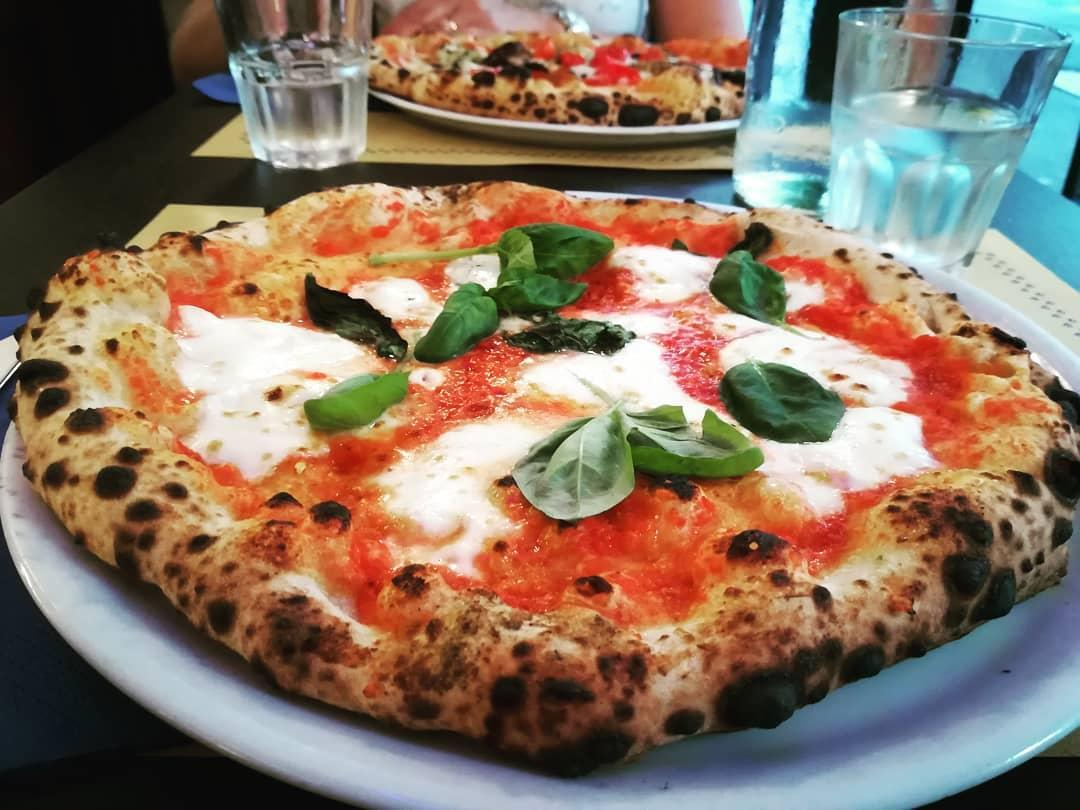Basil: (513, 414, 640, 507), (618, 409, 754, 488), (314, 354, 423, 443), (721, 361, 823, 445), (501, 231, 587, 325), (294, 288, 392, 358), (721, 241, 780, 336), (424, 291, 501, 356)
Cheese: (754, 328, 905, 496), (174, 301, 332, 454), (401, 414, 529, 560), (471, 248, 692, 307), (518, 351, 680, 423)
Pizza: (14, 181, 1080, 740), (354, 38, 747, 134)
